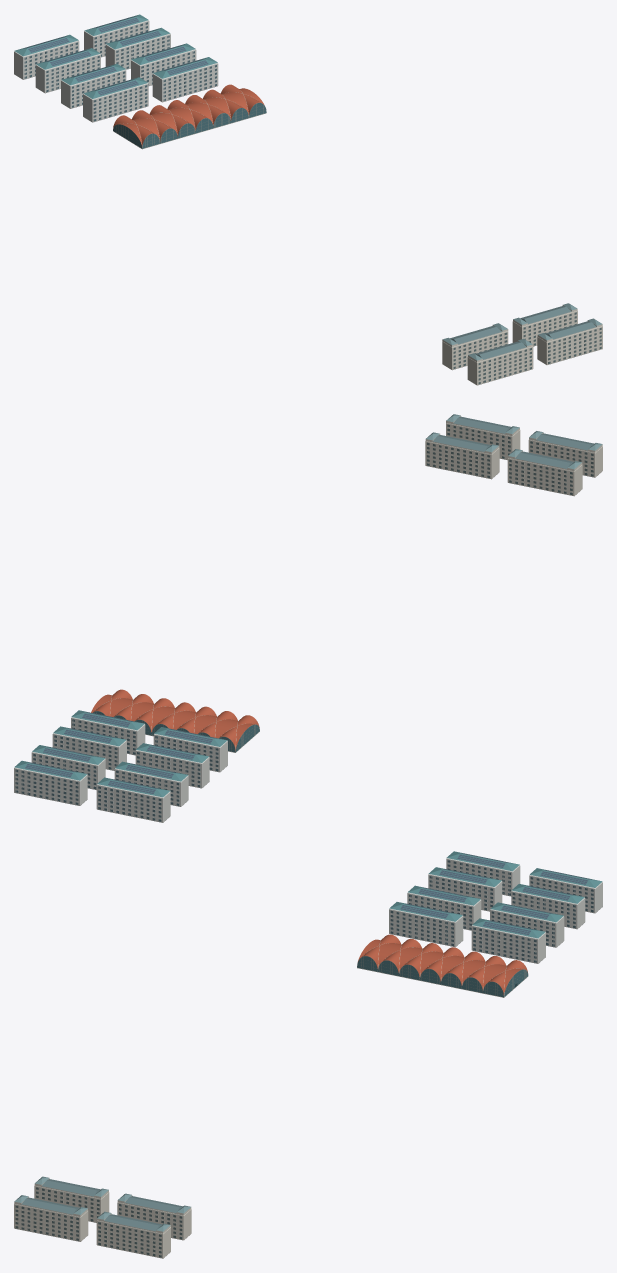
Rendered from SEU_building_patch_v05.glb.
3 renders of one model, top to bottom at view 1: azimuth 30°, elevation 25°; view 2: azimuth 150°, elevation 25°; view 3: azimuth 330°, elevation 25°, orthographic. The views are drawn at different scales.
Parts seen in each view (by area): view 1: SEU_B_OSMWAY_630136428__0004, SEU_B_OSMWAY_630136424__0004, SEU_B_OSMWAY_630141909__0004, SEU_B_OSMWAY_630141912__0004, SEU_B_OSMWAY_851764288_V05__glazing_00, SEU_B_OSMWAY_630136422__0004, SEU_B_OSMWAY_630141910__0004, SEU_B_OSMWAY_630136426__0004, SEU_B_OSMWAY_630136423__0004, SEU_B_OSMWAY_630136421__0004, SEU_B_OSMWAY_630141914__0004, SEU_B_OSMWAY_630136427__0004 (+8 smaller); view 2: SEU_B_OSMWAY_630136421__0004, SEU_B_OSMWAY_630136425__0004, SEU_B_OSMWAY_630141910__0004, SEU_B_OSMWAY_630141914__0004, SEU_B_OSMWAY_630136423__0004, SEU_B_OSMWAY_630136427__0004, SEU_B_OSMWAY_630141909__0004, SEU_B_OSMWAY_630141912__0004, SEU_B_OSMWAY_630136424__0004, SEU_B_OSMWAY_630136422__0004, SEU_B_OSMWAY_630136426__0004, SEU_B_OSMWAY_630136428__0004 (+11 smaller); view 3: SEU_B_OSMWAY_630136428__0004, SEU_B_OSMWAY_630136424__0004, SEU_B_OSMWAY_630141912__0004, SEU_B_OSMWAY_851764288_V05__glazing_00, SEU_B_OSMWAY_630141909__0004, SEU_B_OSMWAY_630136426__0004, SEU_B_OSMWAY_630136422__0004, SEU_B_OSMWAY_630141914__0004, SEU_B_OSMWAY_630141910__0004, SEU_B_OSMWAY_630136427__0004, SEU_B_OSMWAY_630136425__0004, SEU_B_OSMWAY_630136423__0004 (+12 smaller).
Boxes of the visible parts, <box> form: SEU_B_OSMWAY_630136428__0004: <box>152,63,218,102</box>; SEU_B_OSMWAY_630136424__0004: <box>83,83,148,122</box>; SEU_B_OSMWAY_630141909__0004: <box>467,346,533,385</box>; SEU_B_OSMWAY_630141912__0004: <box>537,326,602,364</box>; SEU_B_OSMWAY_851764288_V05__glazing_00: <box>142,103,266,148</box>; SEU_B_OSMWAY_630136422__0004: <box>35,54,100,93</box>; SEU_B_OSMWAY_630141910__0004: <box>442,331,508,370</box>; SEU_B_OSMWAY_630136426__0004: <box>105,33,170,69</box>; SEU_B_OSMWAY_630136423__0004: <box>61,69,126,108</box>; SEU_B_OSMWAY_630136421__0004: <box>14,40,79,79</box>; SEU_B_OSMWAY_630141914__0004: <box>512,310,577,346</box>; SEU_B_OSMWAY_630136427__0004: <box>131,49,196,85</box>; SEU_B_OSMWAY_630136421__0004: <box>96,784,170,822</box>; SEU_B_OSMWAY_630136425__0004: <box>14,767,87,805</box>; SEU_B_OSMWAY_630141910__0004: <box>507,458,582,496</box>; SEU_B_OSMWAY_630141914__0004: <box>425,441,499,479</box>; SEU_B_OSMWAY_630136423__0004: <box>135,750,209,788</box>; SEU_B_OSMWAY_630136427__0004: <box>52,733,126,770</box>; SEU_B_OSMWAY_630141909__0004: <box>528,439,602,477</box>; SEU_B_OSMWAY_630141912__0004: <box>446,423,520,459</box>; SEU_B_OSMWAY_630136424__0004: <box>153,734,227,772</box>; SEU_B_OSMWAY_630136422__0004: <box>114,768,188,806</box>; SEU_B_OSMWAY_630136426__0004: <box>31,751,105,789</box>; SEU_B_OSMWAY_630136428__0004: <box>71,717,145,755</box>; SEU_B_OSMWAY_630136428__0004: <box>471,925,545,963</box>; SEU_B_OSMWAY_630136424__0004: <box>389,908,463,947</box>; SEU_B_OSMWAY_630141912__0004: <box>96,1220,170,1258</box>; SEU_B_OSMWAY_851764288_V05__glazing_00: <box>357,956,503,997</box>; SEU_B_OSMWAY_630141909__0004: <box>14,1203,88,1241</box>; SEU_B_OSMWAY_630136426__0004: <box>511,890,585,929</box>; SEU_B_OSMWAY_630136422__0004: <box>428,874,502,911</box>; SEU_B_OSMWAY_630141914__0004: <box>117,1202,191,1240</box>; SEU_B_OSMWAY_630141910__0004: <box>34,1185,109,1222</box>; SEU_B_OSMWAY_630136427__0004: <box>490,909,564,947</box>; SEU_B_OSMWAY_630136425__0004: <box>529,875,602,913</box>; SEU_B_OSMWAY_630136423__0004: <box>407,892,481,930</box>.
Size of the model in its own units: 143 by 23.05 by 678.
